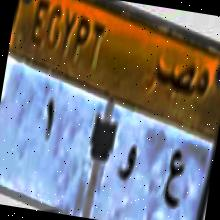ain: (160, 140, 190, 214)
waw: (36, 92, 60, 148), (116, 142, 140, 186)
